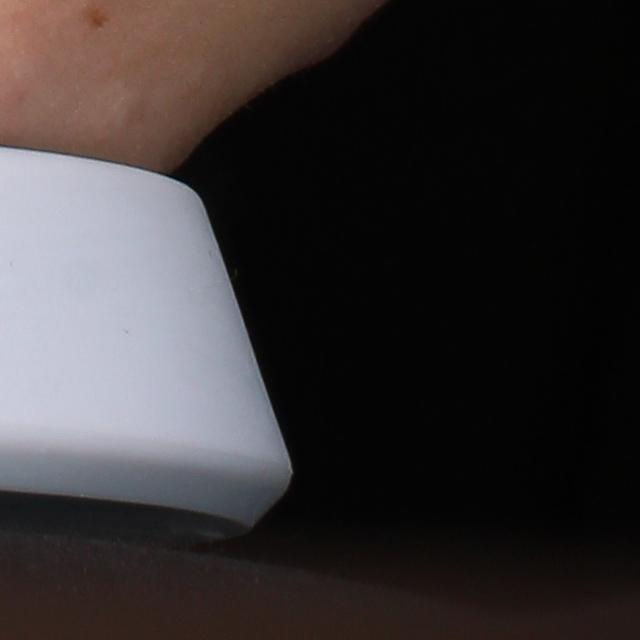nevus: (79, 4, 113, 31)
